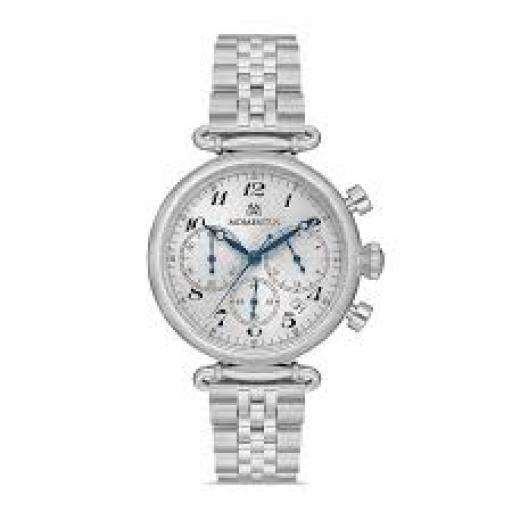KolSaati: (152, 25, 392, 509)
